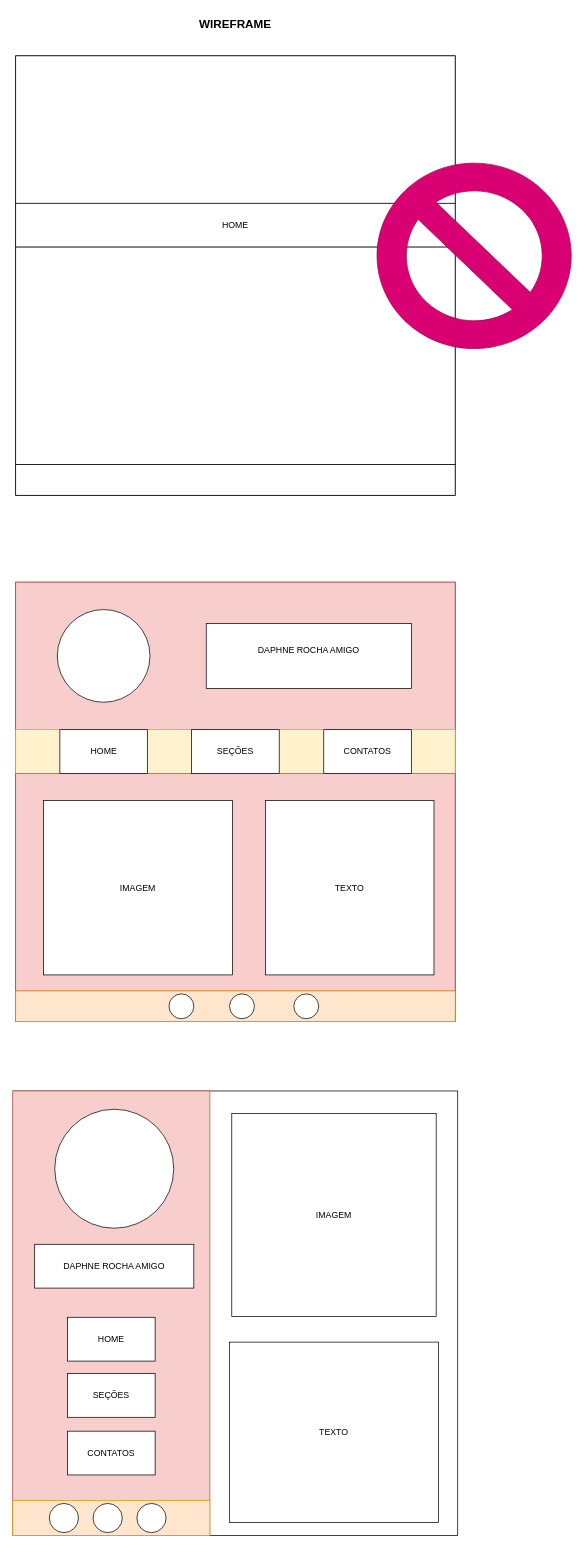
The diagram is 584 pixels wide and 1548 high, and some of its shapes have lost their labels. Here are the shapes that lost their labels. From the top down, the centre of each, then its label:
At point 235,129: "TÍTULO".
At point 473,255: "Protótipo".
At point 235,355: "MAIN".
At point 235,479: "FOOT".
At point 103,655: "FOTO".
